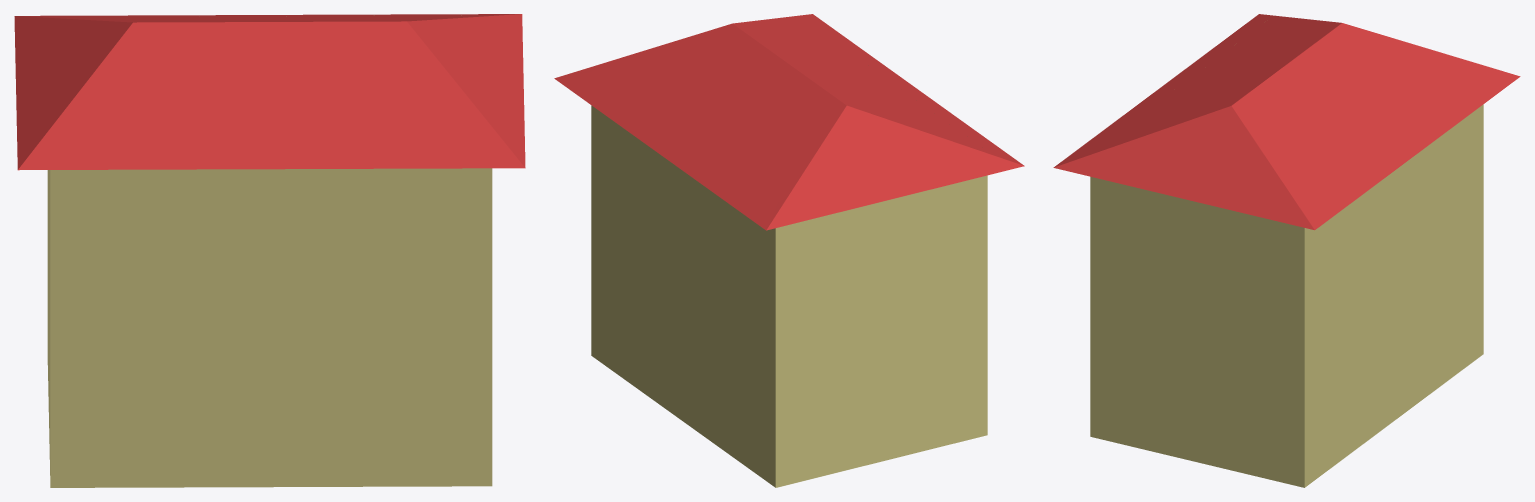
3 renders of one model, left to right at view 1: azimuth 30°, elevation 25°; view 2: azimuth 150°, elevation 25°; view 3: azimuth 270°, elevation 25°, orthographic. The views are drawn at different scales.
Visible parts, largest first — view 1: group_5, group_3, group_4; view 2: group_5, group_3, group_4; view 3: group_5, group_3, group_4.
Boxes of the visible parts, x1,y1,x2,y2 form: group_5: (47,15,492,487); group_3: (18,14,525,170); group_4: (14,14,525,169); group_5: (591,105,987,487); group_3: (555,14,1023,230); group_4: (554,14,1024,230); group_5: (1090,104,1483,487); group_3: (1053,14,1520,230); group_4: (1054,14,1519,229).
Bounding box in the file's own units: 18.85 × 17.21 × 13.45.
